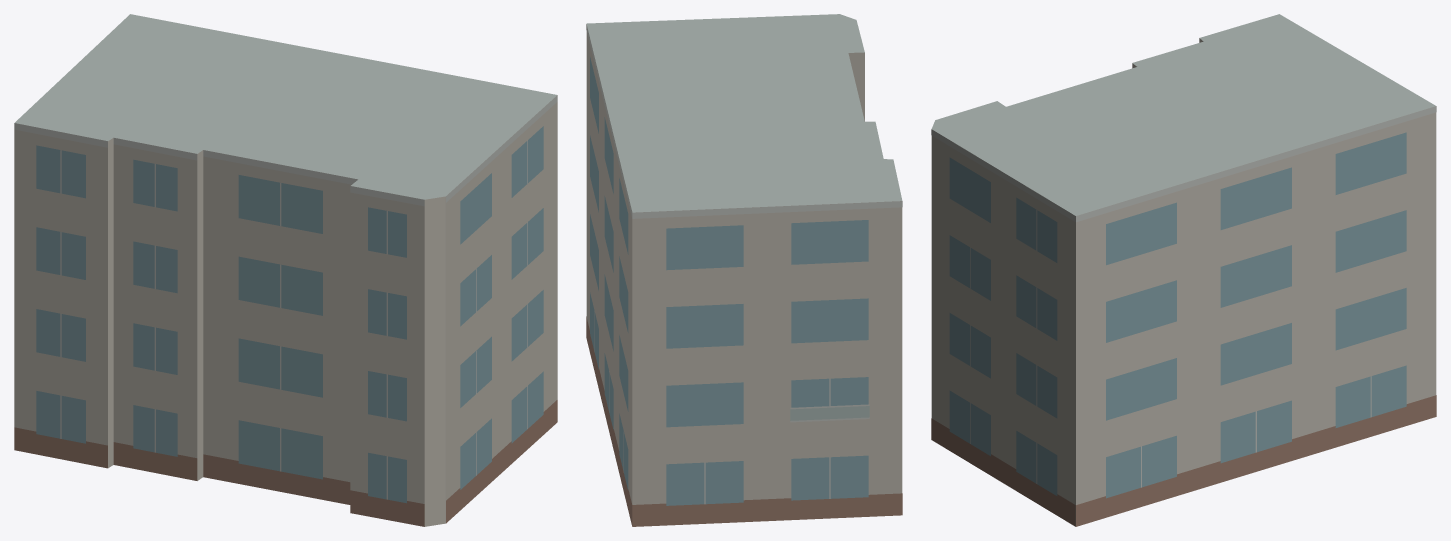
Rendered from survey-upis-32826132.glb.
3 views of the same model, side by side, from view 1: azimuth 30°, elevation 25°; view 2: azimuth 150°, elevation 25°; view 3: azimuth 270°, elevation 25° (orthographic). The views are drawn at different scales.
Parts seen in each view (by area): view 1: survey-upis-32826132.tmp; view 2: survey-upis-32826132.tmp; view 3: survey-upis-32826132.tmp.
Part boxes in pixels (<box>): survey-upis-32826132.tmp: <box>14,14,557,526</box>; survey-upis-32826132.tmp: <box>586,14,902,526</box>; survey-upis-32826132.tmp: <box>931,14,1436,526</box>.
Bounding box in the file's own units: 16.89 × 12.1 × 17.83.
